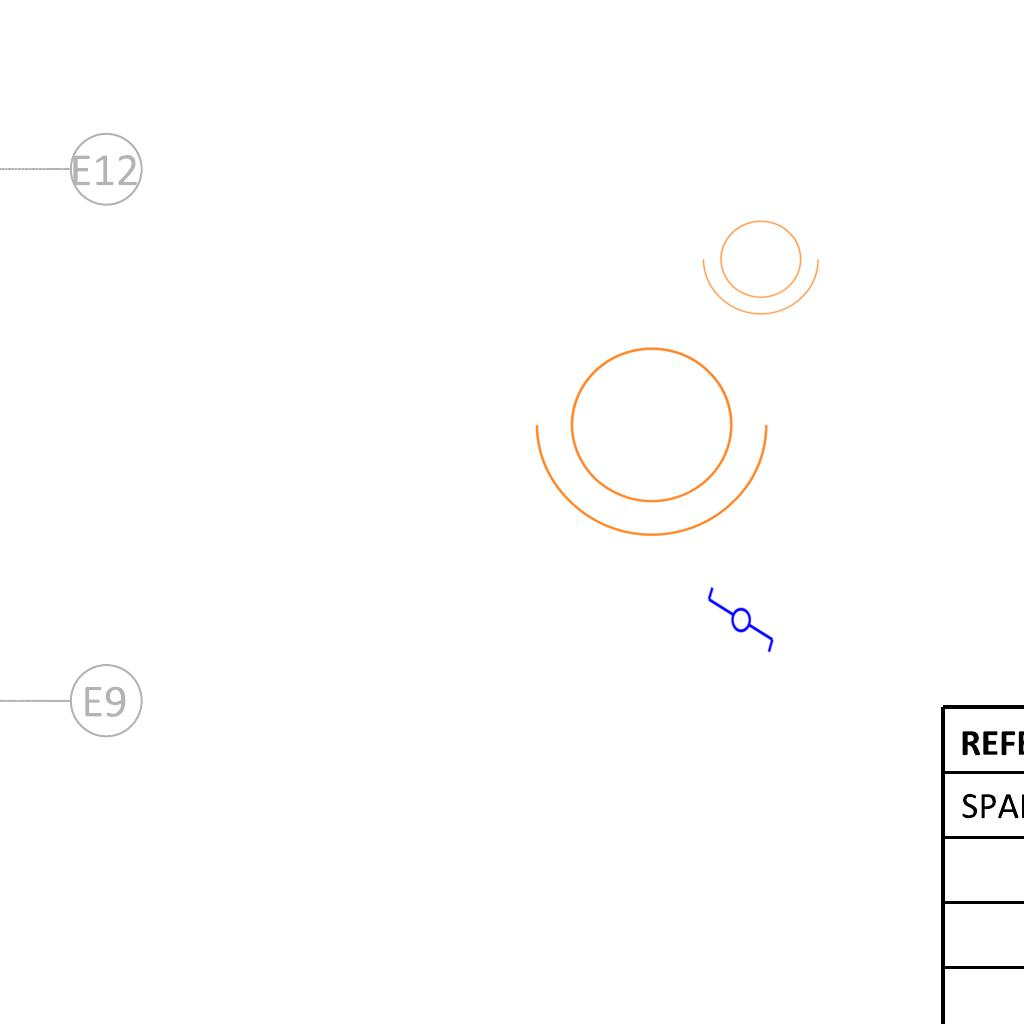Scheinwerfer_fuer_Alarmbeleuchtung: (526, 322, 790, 547), (698, 208, 830, 320)
Wechselschalter: (704, 585, 776, 663)
